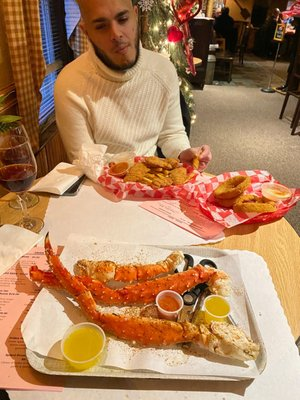curry: (0, 148, 300, 399)
sandwich: (85, 151, 299, 240), (0, 125, 43, 232)
